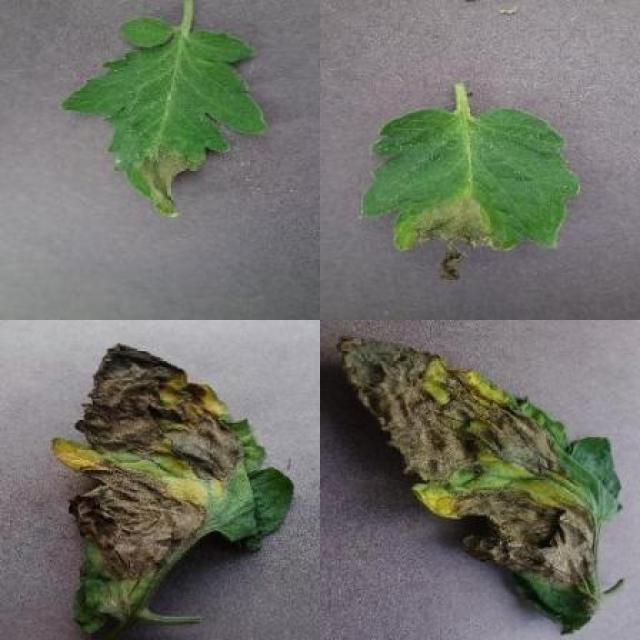Late Blight: (338, 330, 625, 640), (52, 340, 298, 640), (63, 15, 266, 221), (358, 106, 582, 280)
